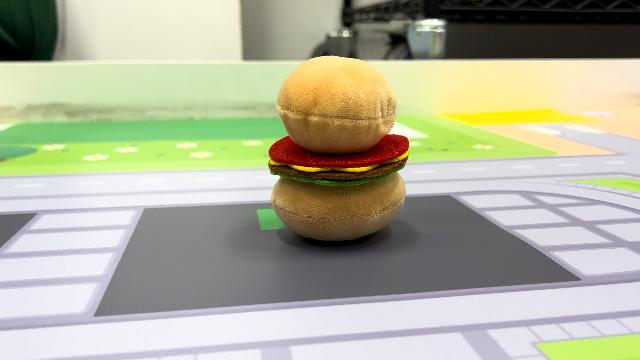burger: (263, 52, 413, 244)
